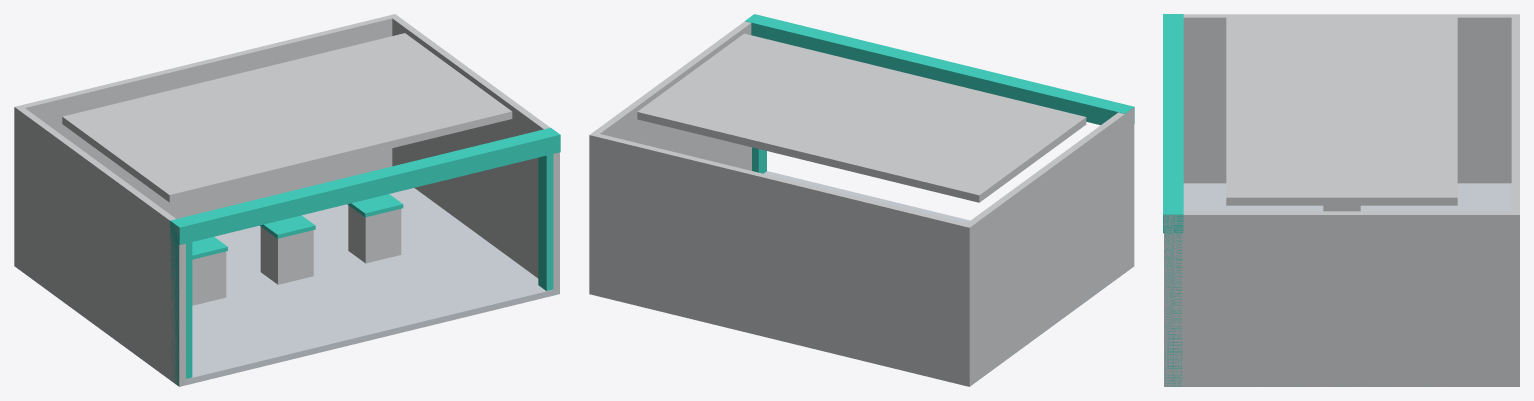
3 renders of one model, left to right at view 1: azimuth 30°, elevation 25°; view 2: azimuth 150°, elevation 25°; view 3: azimuth 270°, elevation 25°, orthographic. The views are drawn at different scales.
Visible parts, largest first — view 1: Exhibition Booth Concept; view 2: Exhibition Booth Concept; view 3: Exhibition Booth Concept.
Boxes of the visible parts, x1,y1,x2,y2 form: Exhibition Booth Concept: (14,14,560,386); Exhibition Booth Concept: (589,14,1134,386); Exhibition Booth Concept: (1163,14,1519,386).
Size of the model in its own units: 8 by 3.34 by 6.02.
